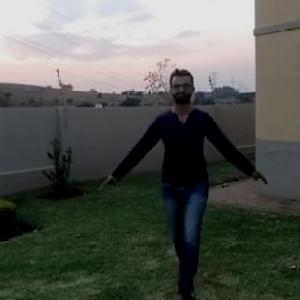land: (132, 85, 239, 270)
